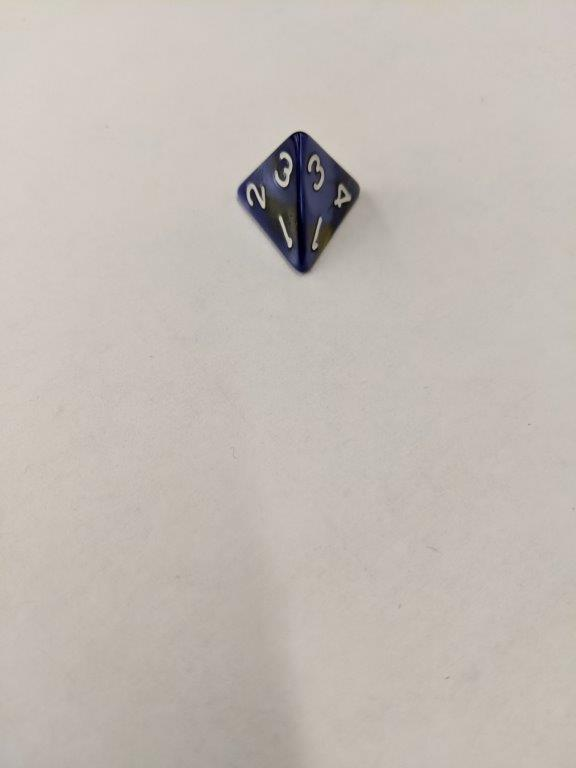d4-3: (234, 126, 364, 278)
